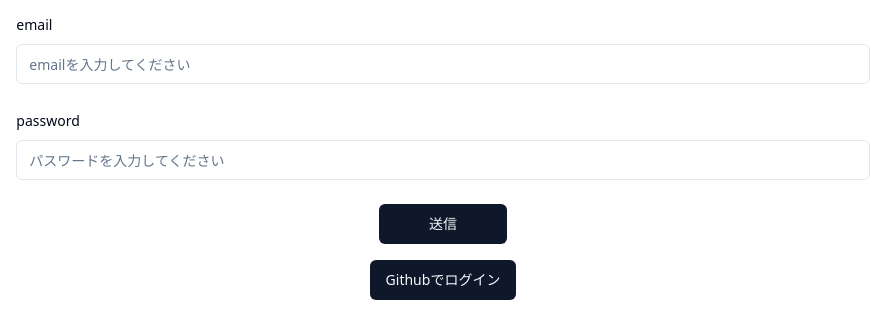
Test: AccountForm (authService) のテスト › 読み込み中はボタンが無効になること
In the field with placeholder "emailを入力してください": [443, 64] box [16,44,870,84], type "test@example.com"
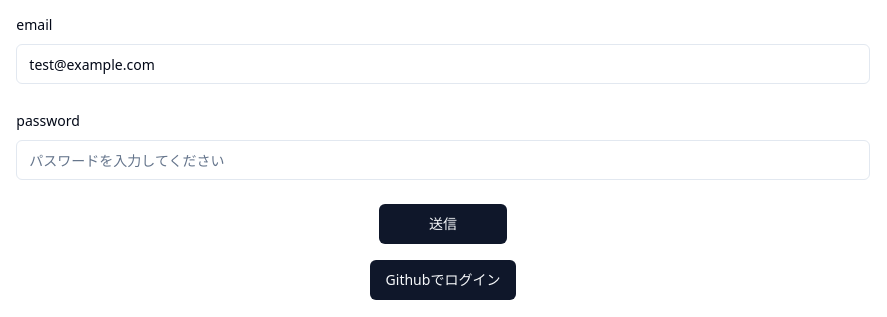
In the field with placeholder "パスワードを入力してください": [443, 160] box [16,140,870,180], type "pass123"
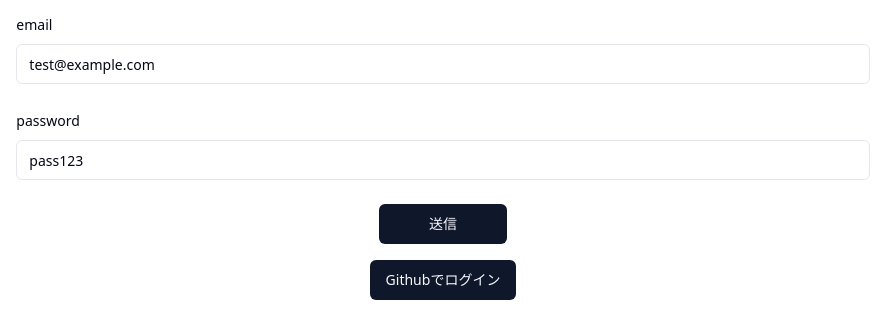
Click the button "送信": [443, 224] box [379,204,507,244]
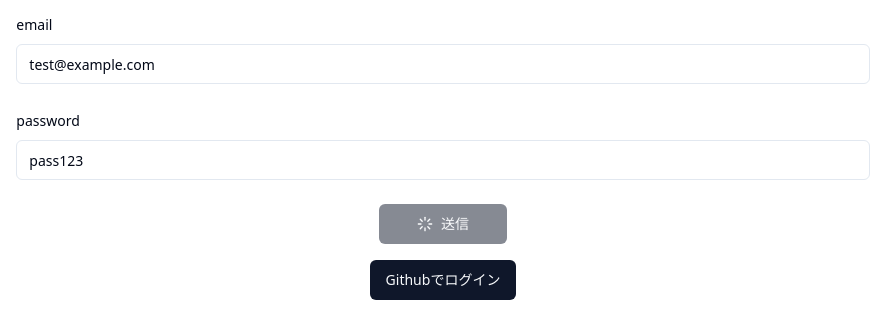
Result: the button "送信" is disabled at [379,204,507,244]
